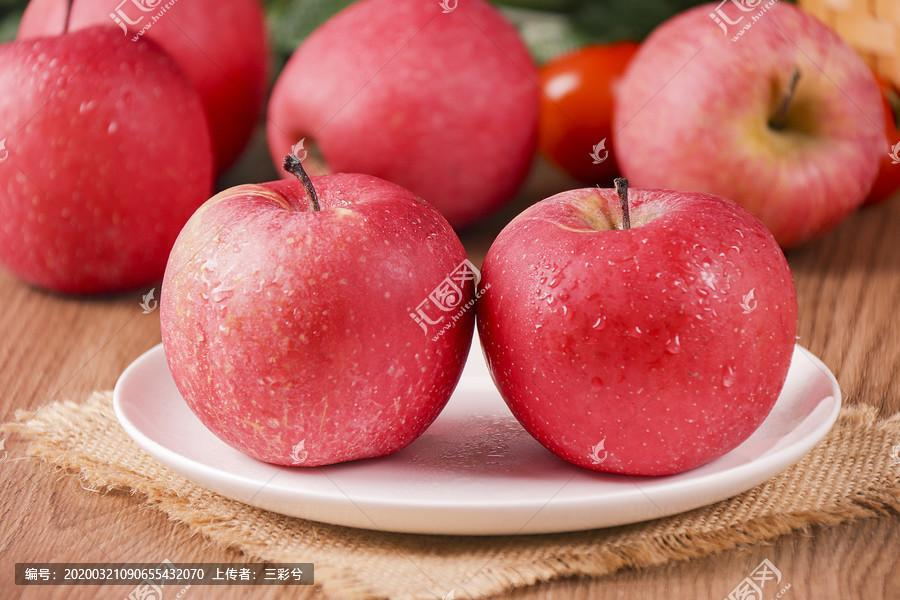apple: (154, 155, 474, 470), (474, 178, 795, 477), (616, 1, 892, 252), (1, 22, 235, 297), (262, 1, 536, 230)
